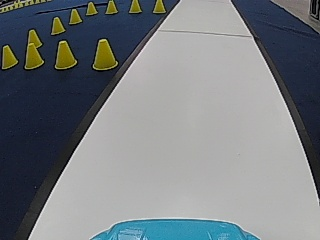cone: (93, 38, 117, 69), (54, 40, 77, 69), (24, 42, 43, 68), (1, 45, 17, 68), (27, 29, 43, 49), (51, 16, 65, 34), (68, 9, 81, 25), (104, 0, 118, 14), (152, 0, 165, 13), (128, 0, 141, 13), (85, 2, 97, 15)
